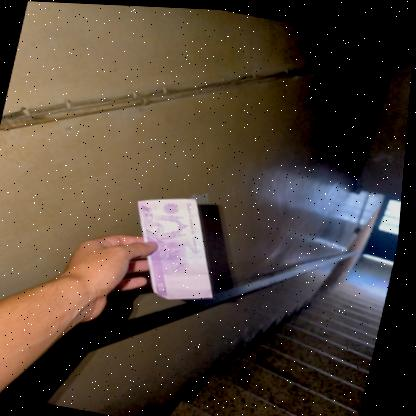one_hundred-back-vef: (120, 186, 237, 306)
